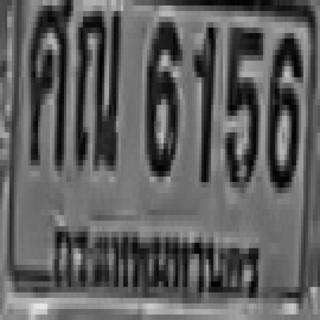A19: (74, 6, 118, 166)
A38: (27, 0, 70, 166)
N01: (192, 19, 216, 179)
N05: (223, 22, 261, 182)
N06: (266, 28, 301, 188), (144, 17, 179, 171)
P04: (47, 214, 267, 308)
